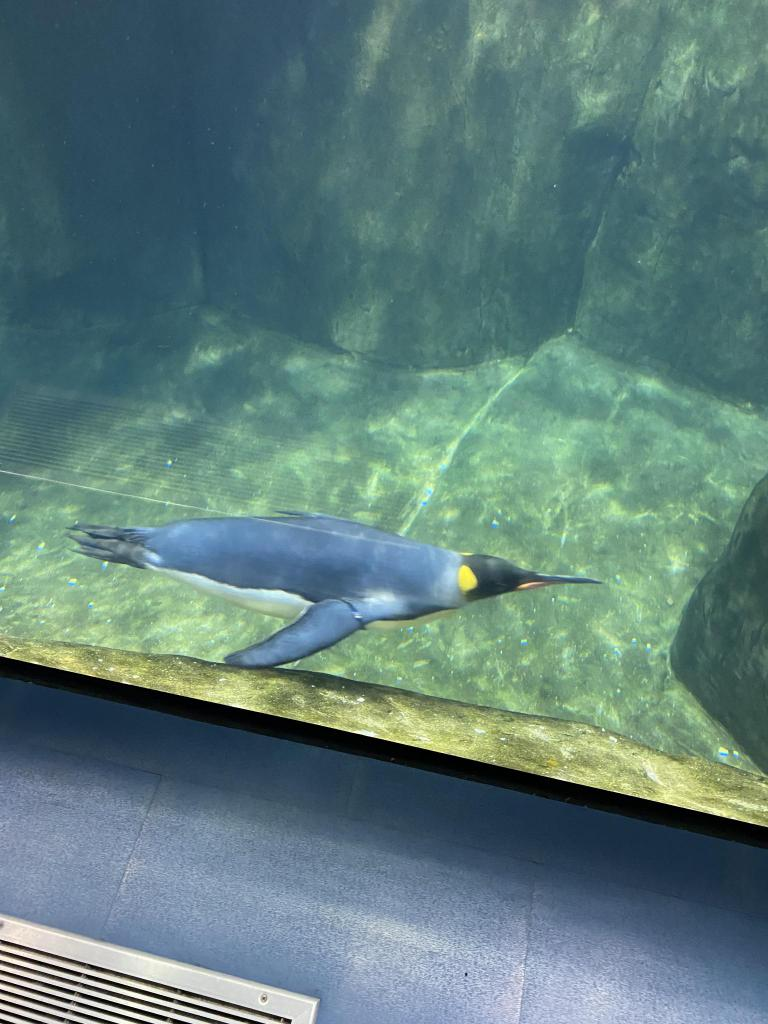penguin: (69, 502, 608, 662)
